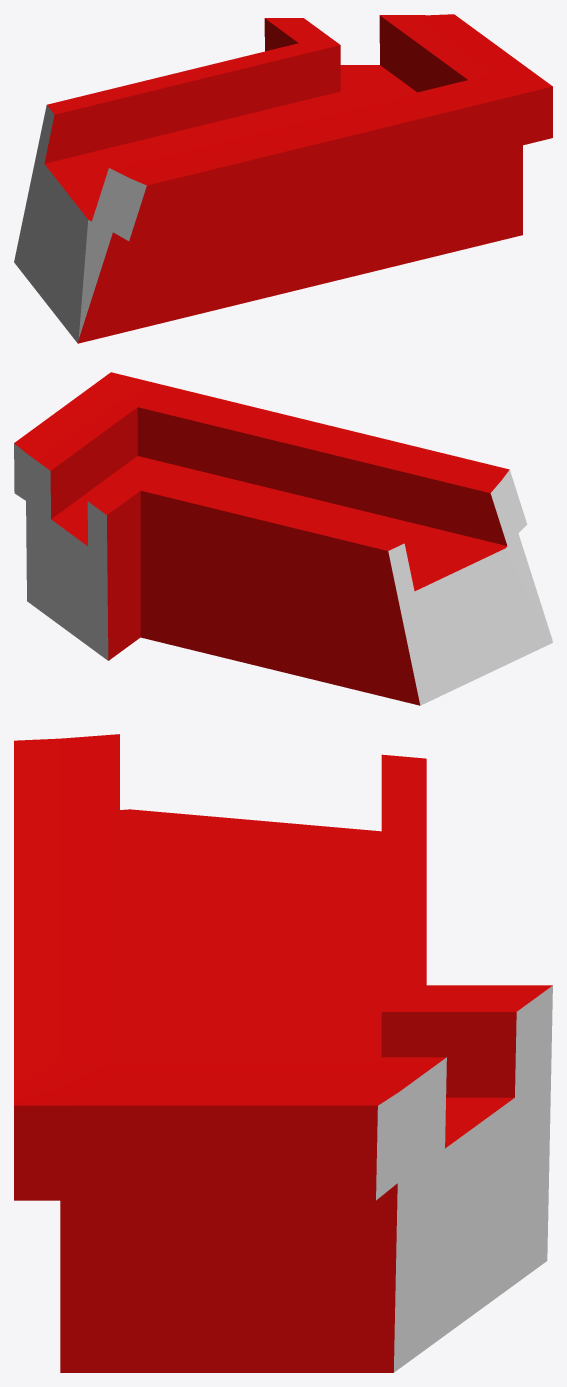
Rendered from mdl_ciudadela_pared_fracturepart11.fbx.
The picture shows the model from 3 angles, top to bottom: view 1: azimuth 30°, elevation 25°; view 2: azimuth 150°, elevation 25°; view 3: azimuth 270°, elevation 25°; orthographic projection. The views are drawn at different scales.
Visible parts, largest first — view 1: mdl_ciudadela_pared_fracturepart11; view 2: mdl_ciudadela_pared_fracturepart11; view 3: mdl_ciudadela_pared_fracturepart11.
Boxes of the visible parts, x1,y1,x2,y2 form: mdl_ciudadela_pared_fracturepart11: [14, 14, 552, 343]; mdl_ciudadela_pared_fracturepart11: [14, 372, 552, 705]; mdl_ciudadela_pared_fracturepart11: [14, 734, 552, 1372].
Size of the model in its own units: 13.26 by 4.21 by 7.26.
